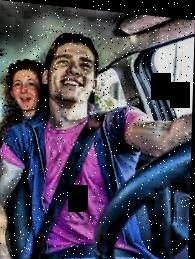seatbelt: (20, 86, 115, 259)
